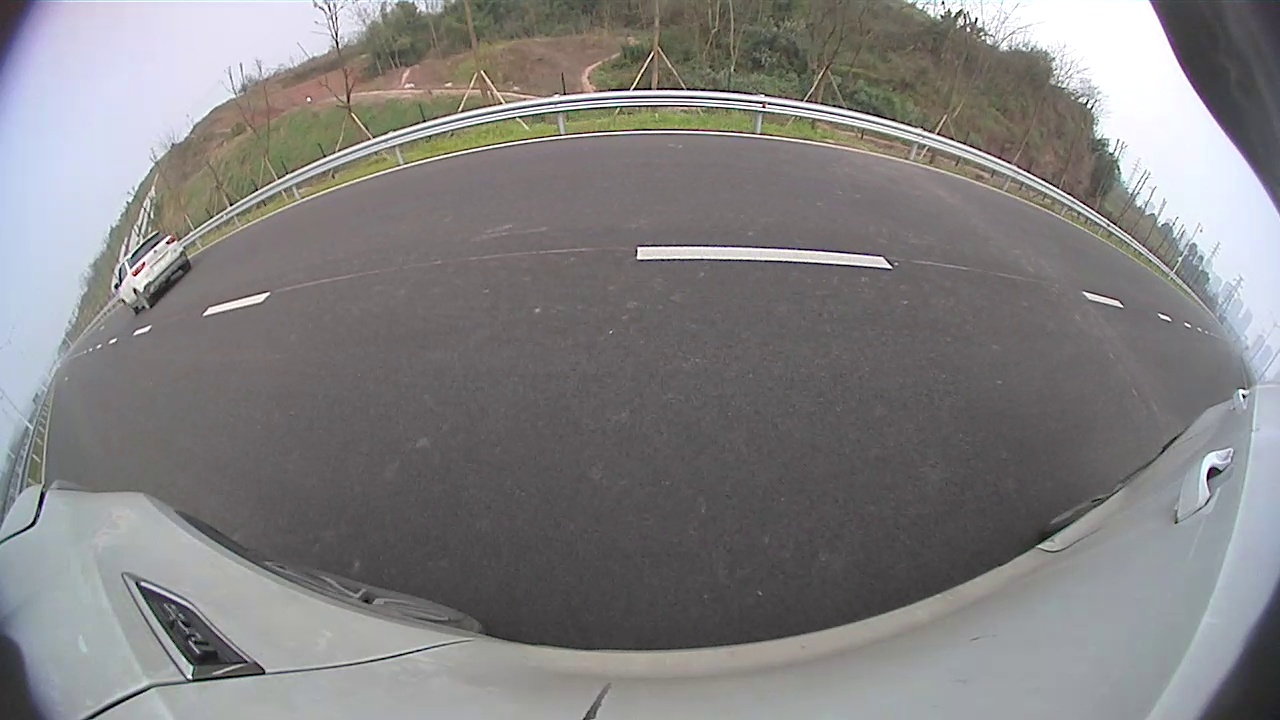car: (542, 153, 601, 194)
rear: (582, 174, 591, 191)
